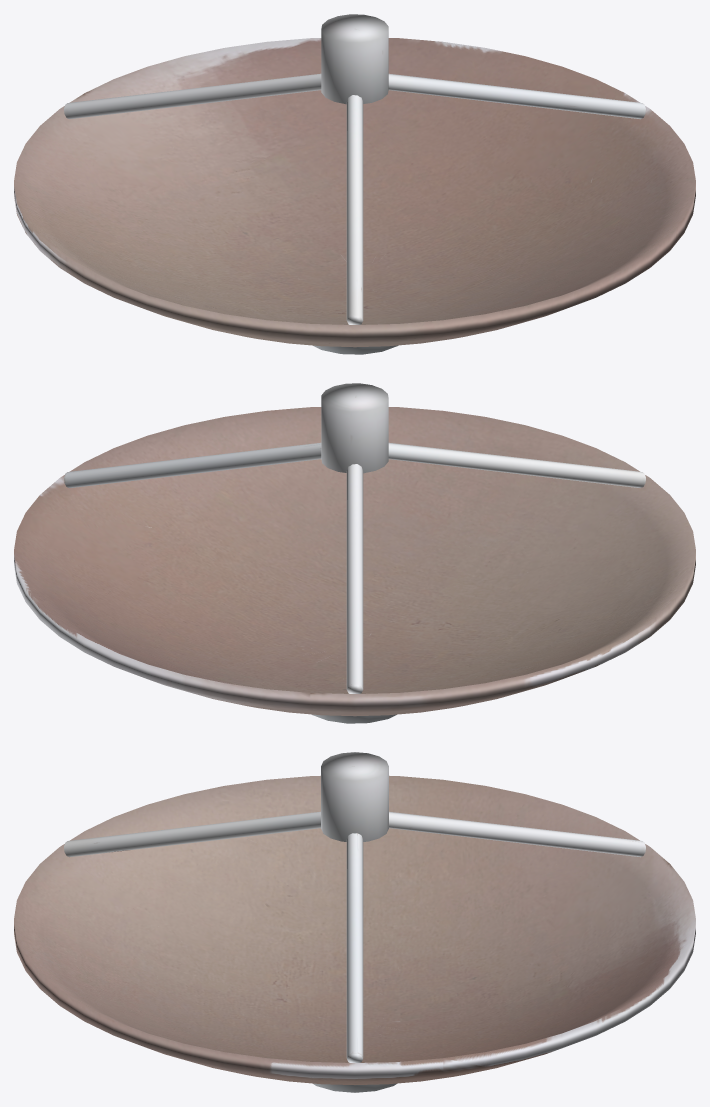
File: SM_Antenne_Parabole.glb
3 renders of one model, top to bottom at view 1: azimuth 30°, elevation 25°; view 2: azimuth 150°, elevation 25°; view 3: azimuth 270°, elevation 25°, orthographic.
Bounding box in the file's own units: 2 × 0.9812 × 2.
Materials: 1 (1 with a texture image).
